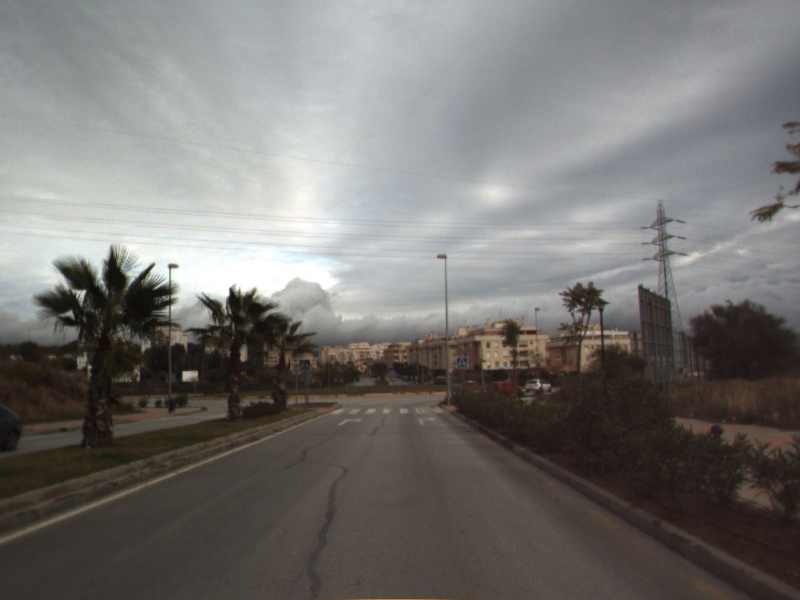RIGHT: (336, 415, 364, 428), (416, 414, 440, 427)
